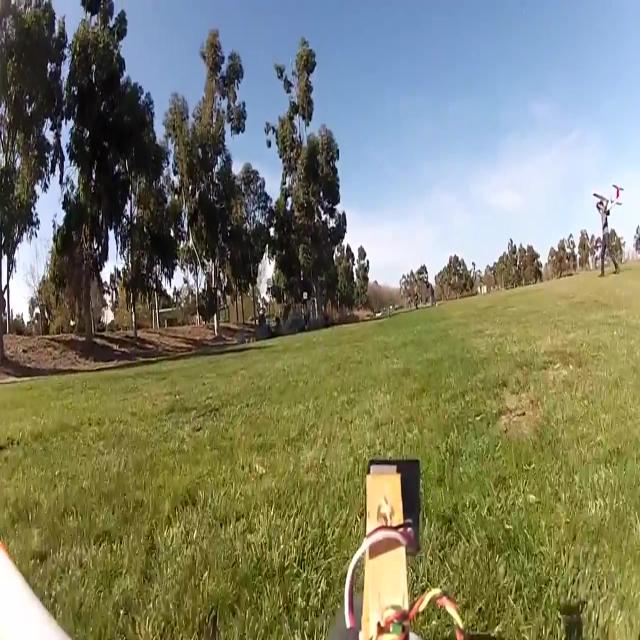iha: (591, 182, 624, 211)
